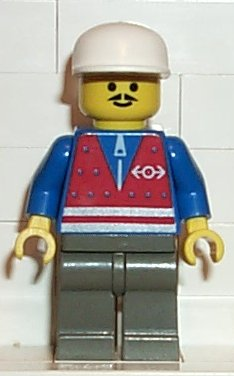lego: (2, 20, 231, 376)
